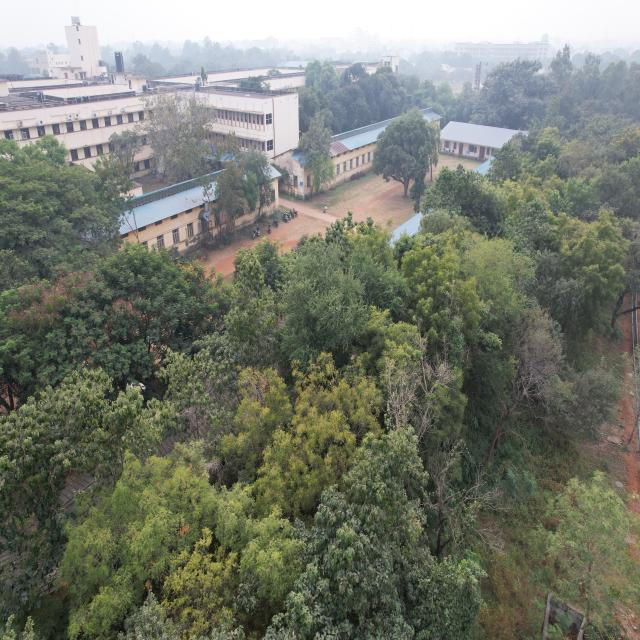Devakanchan tree: (299, 510, 424, 640)
Mango Tree: (374, 115, 445, 199)
Neem Tree: (75, 476, 244, 640), (248, 362, 365, 502), (384, 247, 464, 357), (568, 213, 628, 297)
